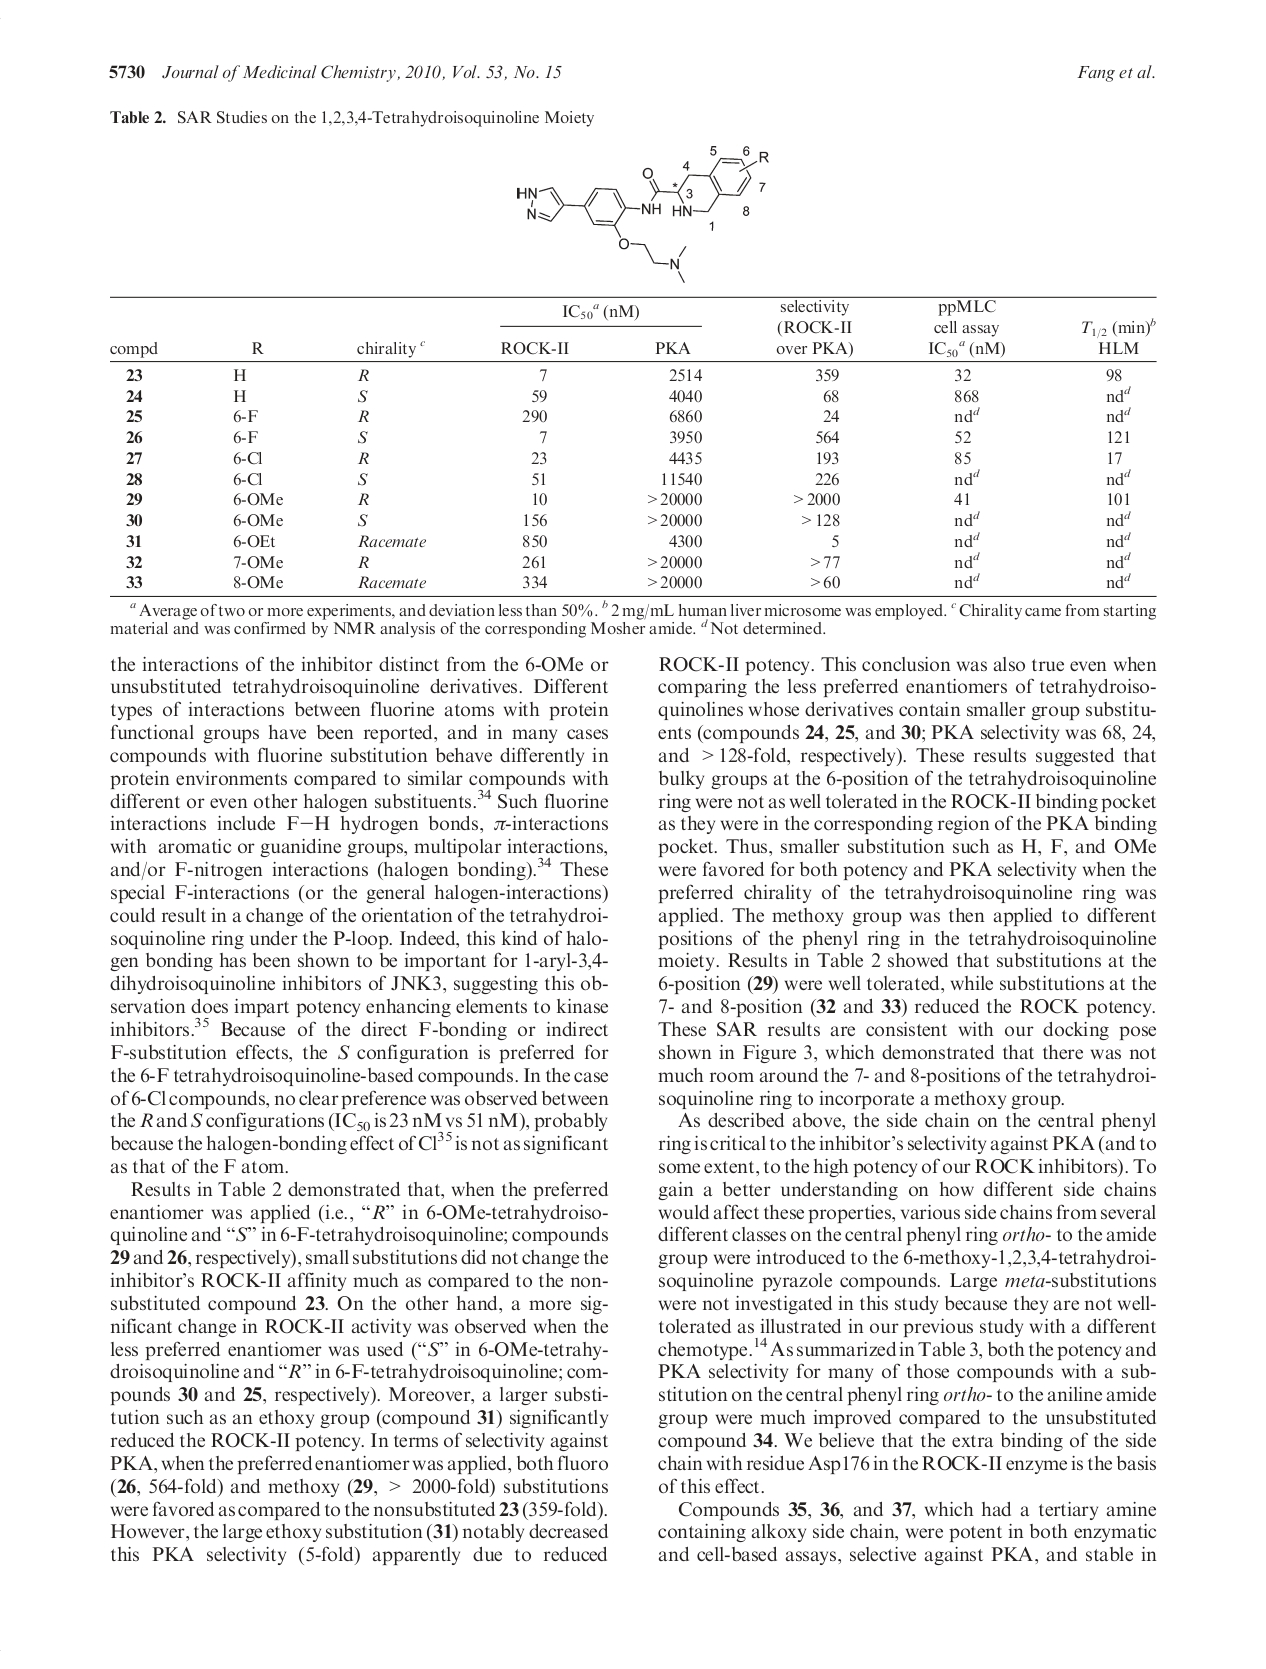exist_molecular: (515, 144, 770, 283)
